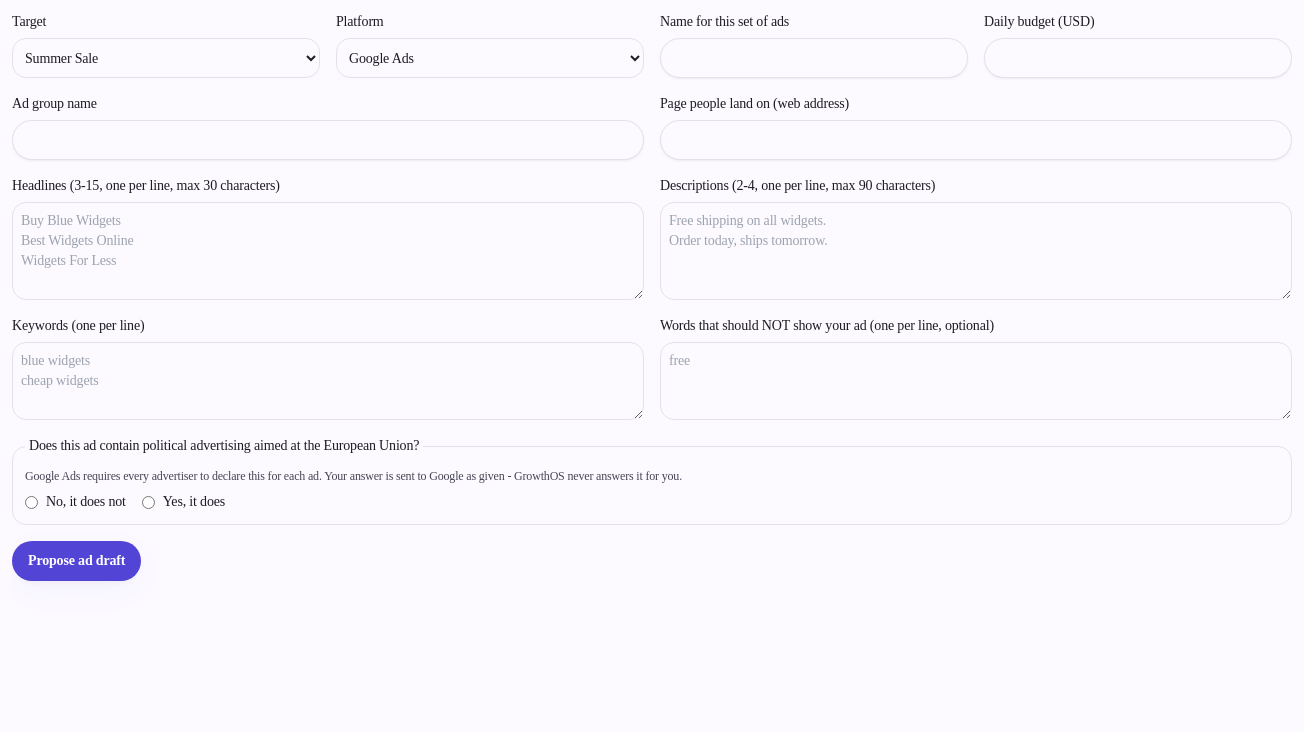
Test: AutomationProposeCampaignDraftForm › shows an inline error for a Meta draft with no countries, without submitting
Select "Meta" in the dropdown labelled "Platform": (490, 58) left=336, top=38, right=644, bottom=78
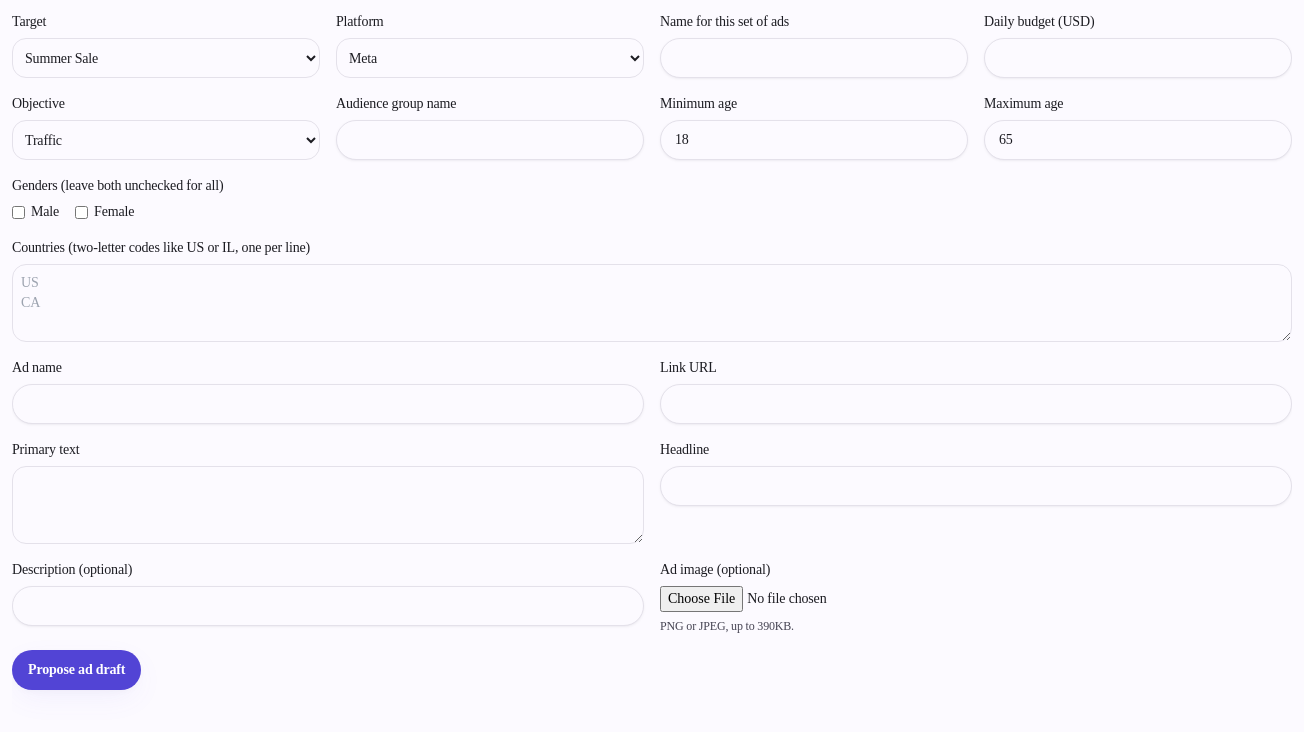
In the field labelled "Name for this set of ads": (814, 58) left=660, top=38, right=968, bottom=78, type "Summer Sale"
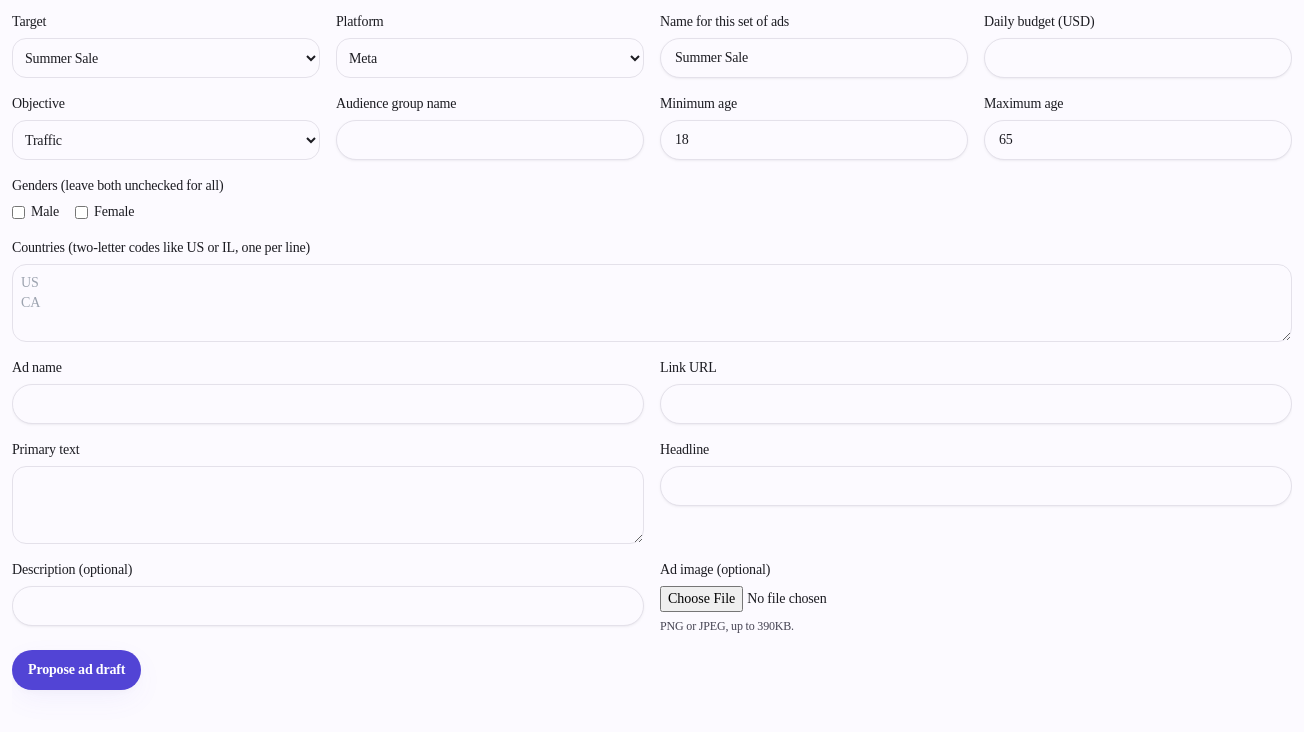
In the number field labelled "Daily budget (USD)": (1138, 58) left=984, top=38, right=1292, bottom=78, type "40"
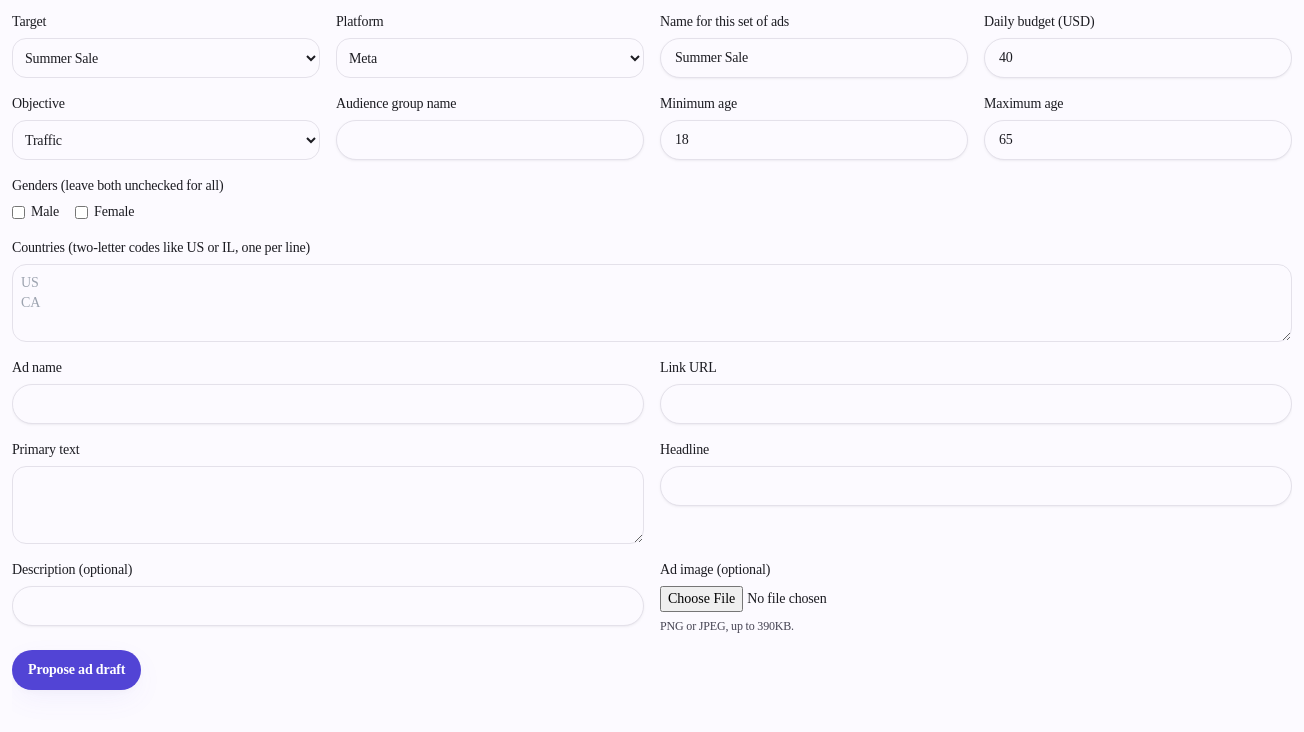
Click the button "Propose ad draft": click(77, 670) left=12, top=650, right=141, bottom=690
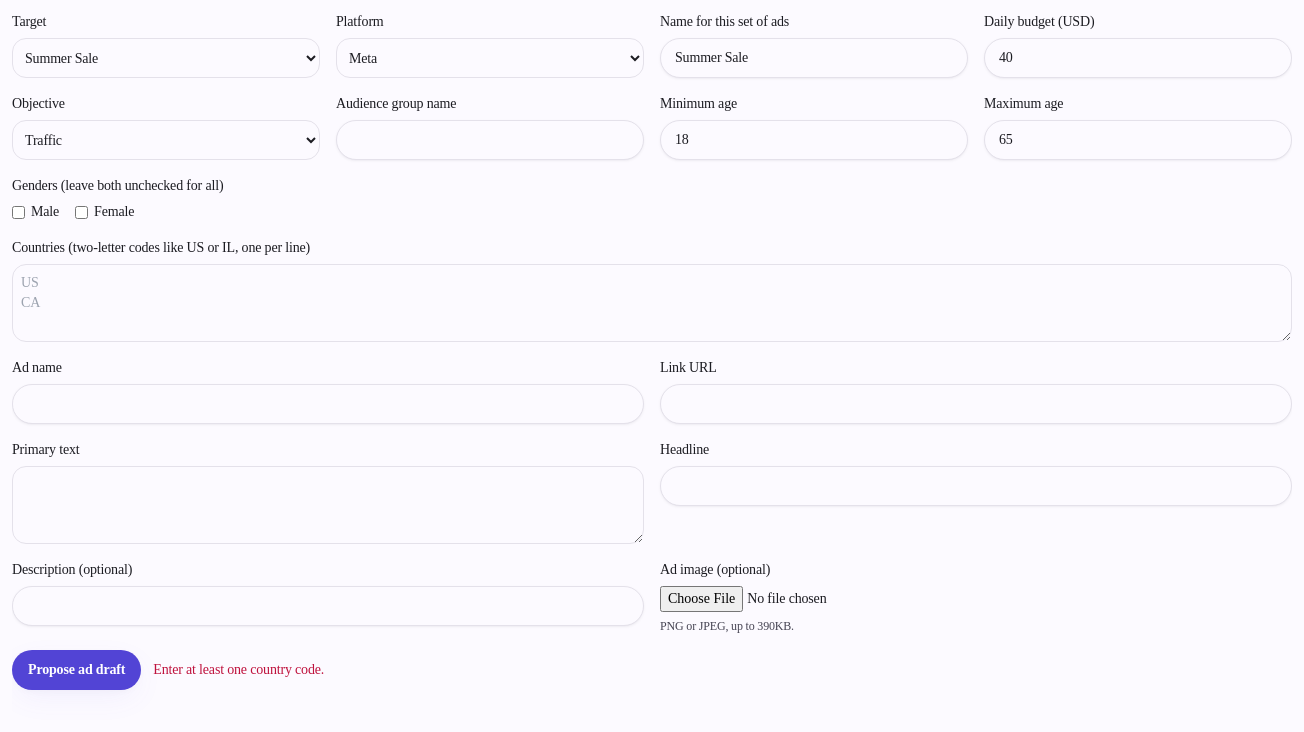
Result: the message reads "Enter at least one country code." at left=153, top=662, right=324, bottom=677
